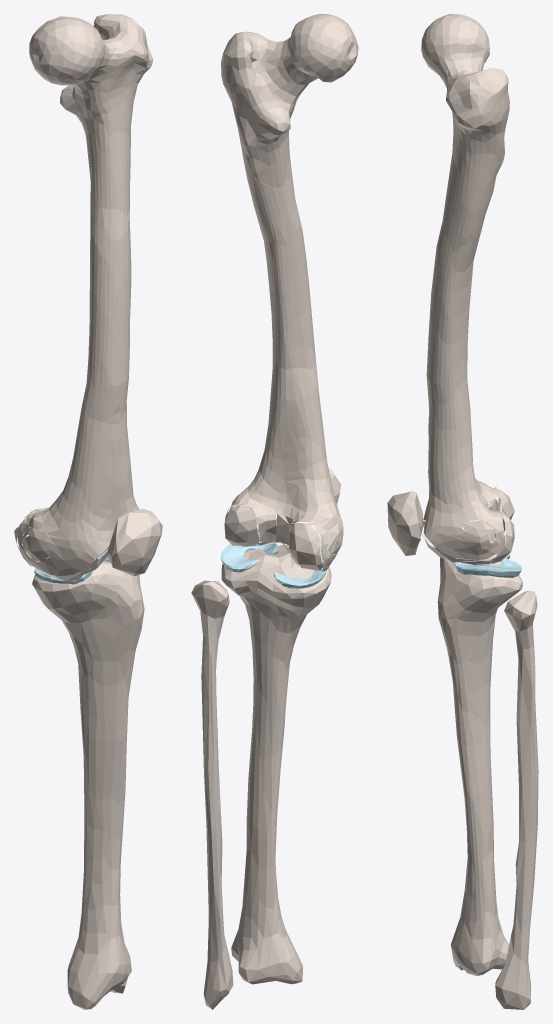
File: VH_F_Knee_L_0.2.glb
The picture shows the model from 3 angles, left to right: view 1: azimuth 30°, elevation 25°; view 2: azimuth 150°, elevation 25°; view 3: azimuth 270°, elevation 25°; orthographic projection. The views are drawn at different scales.
Parts seen in each view (by area): view 1: VH_F_femur_L, VH_F_tibia_L, VH_F_patella_L, VH_F_medial_perichondular_surface_L, VH_F_meniscus_L, VH_F_articular_cartilage_of_knee_L; view 2: VH_F_femur_L, VH_F_tibia_L, VH_F_fibula_L, VH_F_meniscus_L, VH_F_medial_condyle_of_left_femur_inf, VH_F_lateral_condyle_of_femur_inf_L, VH_F_anterior_cruciate_enthesis_L, VH_F_posterior_cruciate_enthesis_L, VH_F_articular_cartilage_of_knee_L; view 3: VH_F_femur_L, VH_F_tibia_L, VH_F_fibula_L, VH_F_patella_L, VH_F_meniscus_L, VH_F_lateral_perichondular_surface_L, VH_F_articular_cartilage_of_knee_L, VH_F_lateral_condyle_of_femur_inf_L.
Boxes of the visible parts, x1,y1,x2,y2 form: VH_F_femur_L: [17, 14, 153, 575]; VH_F_tibia_L: [32, 546, 144, 1009]; VH_F_patella_L: [107, 509, 162, 576]; VH_F_medial_perichondular_surface_L: [23, 535, 50, 562]; VH_F_meniscus_L: [34, 553, 110, 584]; VH_F_articular_cartilage_of_knee_L: [14, 507, 108, 581]; VH_F_femur_L: [221, 14, 358, 566]; VH_F_tibia_L: [221, 545, 331, 984]; VH_F_fibula_L: [191, 580, 233, 1009]; VH_F_meniscus_L: [220, 538, 327, 588]; VH_F_medial_condyle_of_left_femur_inf: [289, 523, 322, 569]; VH_F_lateral_condyle_of_femur_inf_L: [224, 505, 259, 546]; VH_F_anterior_cruciate_enthesis_L: [257, 514, 276, 543]; VH_F_posterior_cruciate_enthesis_L: [275, 514, 293, 545]; VH_F_articular_cartilage_of_knee_L: [224, 504, 328, 571]; VH_F_femur_L: [421, 14, 509, 559]; VH_F_tibia_L: [437, 553, 522, 976]; VH_F_fibula_L: [495, 590, 538, 1009]; VH_F_patella_L: [387, 491, 423, 555]; VH_F_meniscus_L: [454, 542, 521, 577]; VH_F_lateral_perichondular_surface_L: [459, 527, 491, 549]; VH_F_articular_cartilage_of_knee_L: [421, 486, 505, 563]; VH_F_lateral_condyle_of_femur_inf_L: [496, 512, 514, 560].
Bounding box in the file's own units: 0.1018 × 0.7724 × 0.1106.
